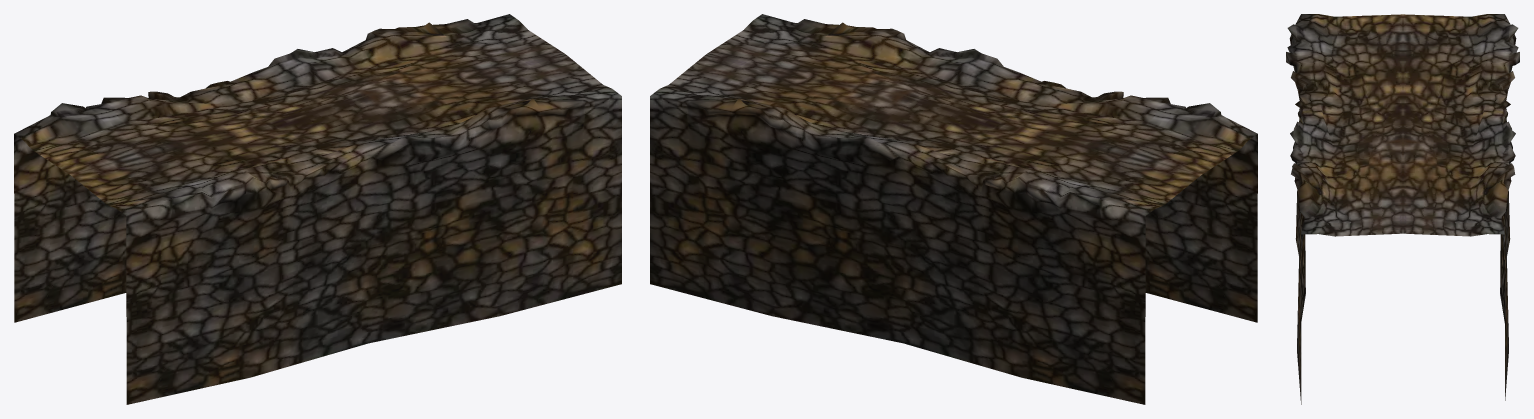
File: Wall-Type01.glb
3 views of the same model, side by side, from view 1: azimuth 30°, elevation 25°; view 2: azimuth 150°, elevation 25°; view 3: azimuth 270°, elevation 25° (orthographic). The views are drawn at different scales.
Visible parts, largest first — view 1: Wall-Type01; view 2: Wall-Type01; view 3: Wall-Type01.
Boxes of the visible parts, x1=… form: Wall-Type01: x1=14, y1=14, x2=621, y2=404; Wall-Type01: x1=650, y1=14, x2=1257, y2=404; Wall-Type01: x1=1286, y1=14, x2=1519, y2=404.
Size of the model in its own units: 12.55 by 4.92 by 5.65.
1 material, 1 textured.
